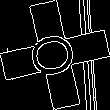O_E: (25, 28, 85, 82)
